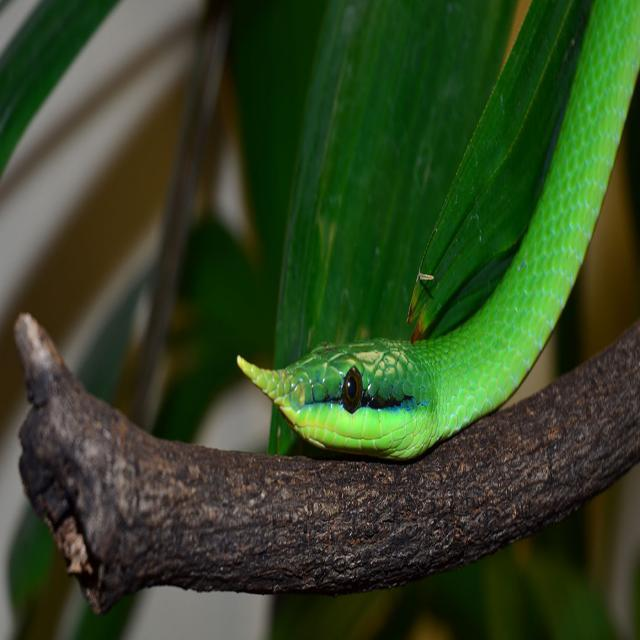Snake: (237, 0, 639, 486)
